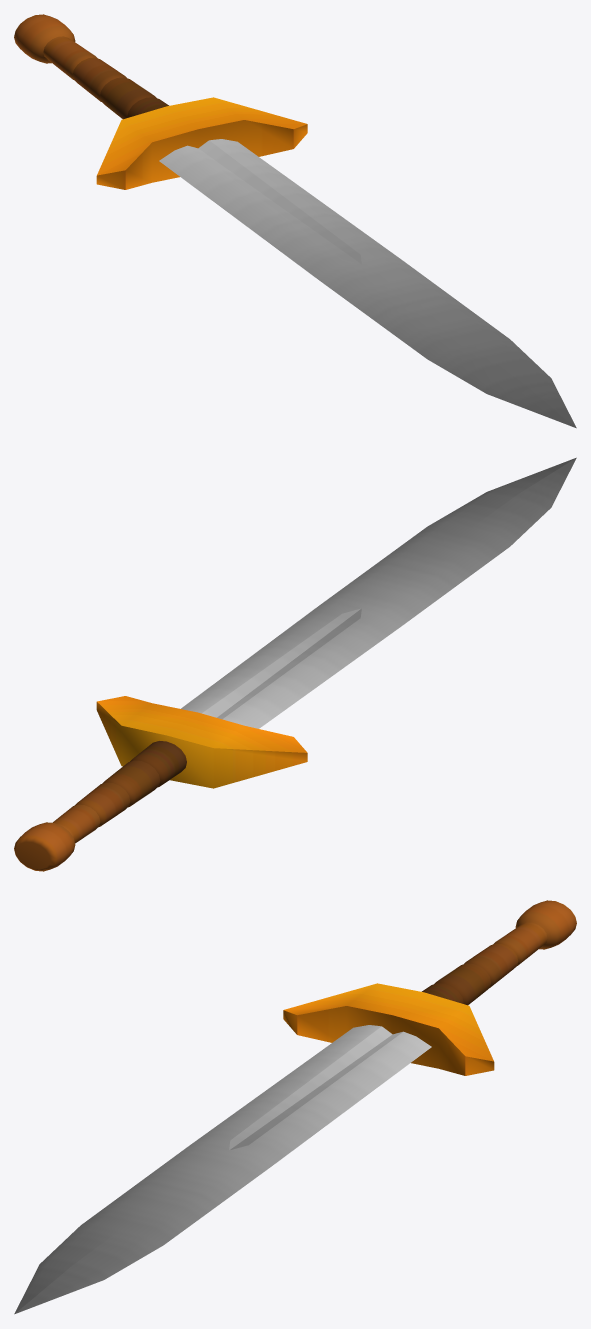
File: LV3_Weapon.fbx
3 renders of one model, top to bottom at view 1: azimuth 30°, elevation 25°; view 2: azimuth 150°, elevation 25°; view 3: azimuth 330°, elevation 25°, orthographic.
Visible parts, largest first — view 1: LV3_Weapon; view 2: LV3_Weapon; view 3: LV3_Weapon.
Boxes of the visible parts, x1,y1,x2,y2 form: LV3_Weapon: (14,14,576,428); LV3_Weapon: (14,457,576,871); LV3_Weapon: (14,900,576,1314).
Size of the model in its own units: 36.68 by 7.34 by 164.
1 material, 1 textured.
